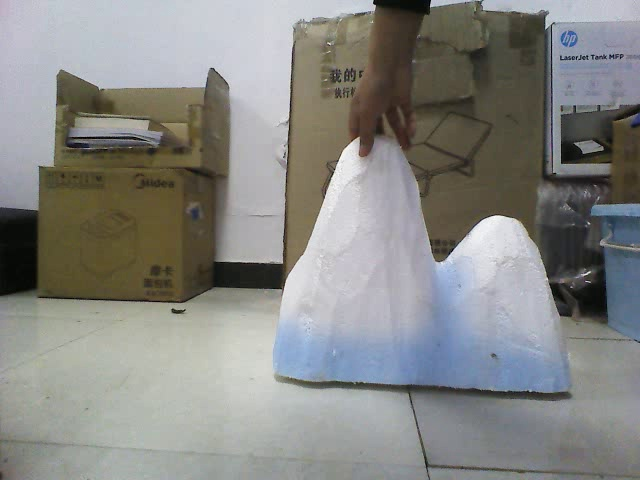iceberg: (266, 130, 578, 398)
